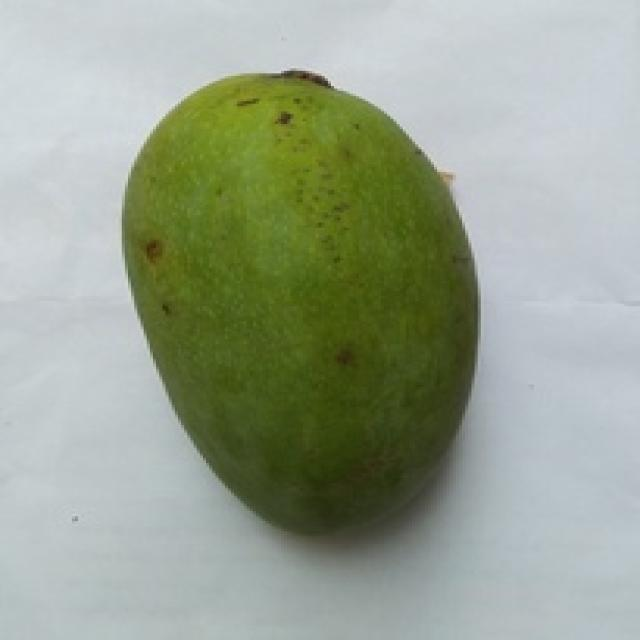Mango: (125, 73, 475, 531)
